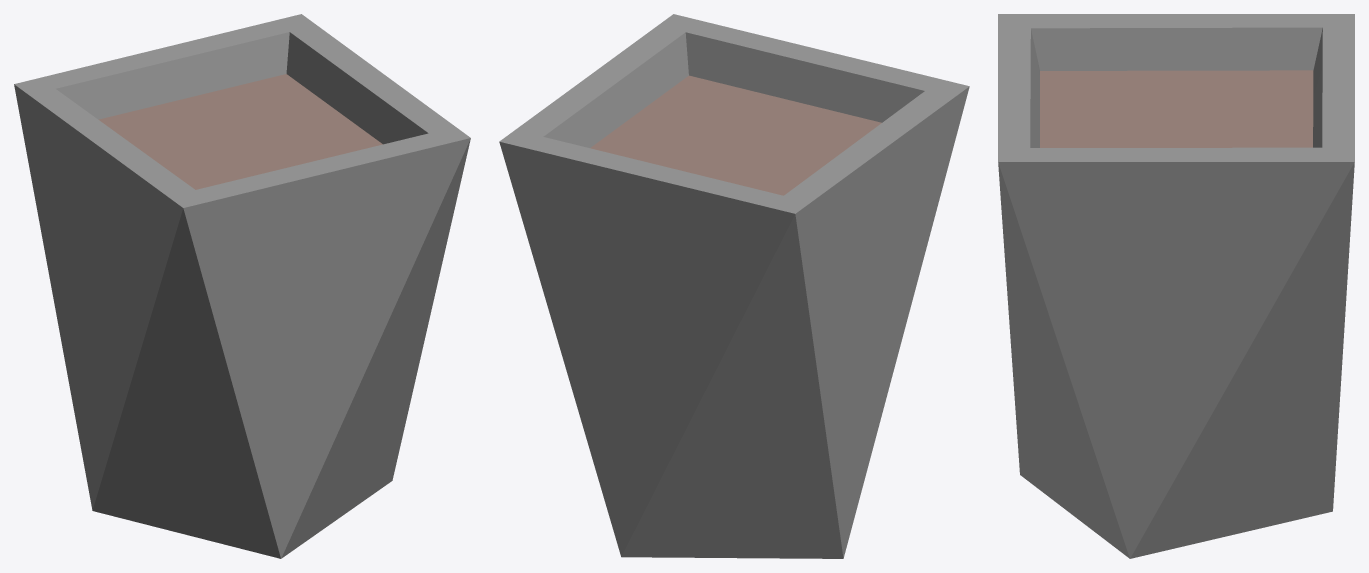
File: flowerpot_007.fbx
3 renders of one model, left to right at view 1: azimuth 30°, elevation 25°; view 2: azimuth 150°, elevation 25°; view 3: azimuth 270°, elevation 25°, orthographic. The views are drawn at different scales.
Visible parts, largest first — view 1: flowerpot_007; view 2: flowerpot_007; view 3: flowerpot_007.
Boxes of the visible parts, box(x1,y1,x2,y2) form: flowerpot_007: box(14, 14, 470, 558); flowerpot_007: box(499, 14, 969, 558); flowerpot_007: box(998, 14, 1354, 558).
Bounding box in the file's own units: 29.14 × 29.72 × 37.25.
